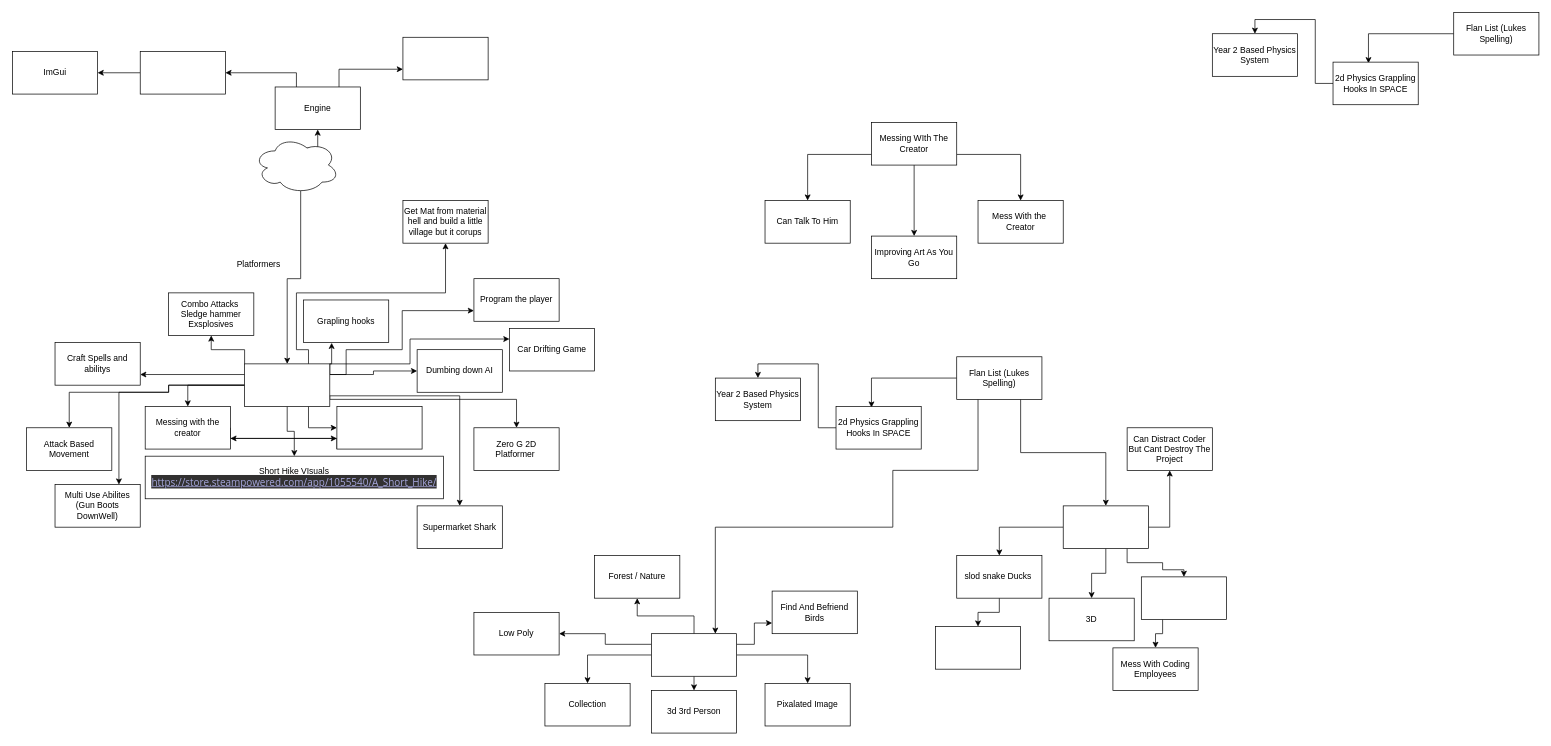
This 1551x746 diagram has some shape labels left out. Here are the shapes that lost their labels. From the top down, the centre of each, then its label:
At [182,72]: "Unity Clone Engine".
At [445,58]: "C++".
At [296,164]: "Game Ideas".
At [287,384]: "Idea's".
At [379,427]: "Rubber Duck Assistance Simulator 2021".
At [1105,526]: "SIgnle Player".
At [1184,597]: "Andys Coming".
At [694,654]: "Exploration".
At [978,647]: "Hides Under Items Cant Be Found Or it Gets Killed".
